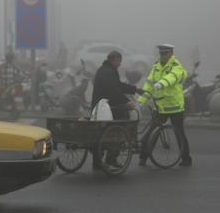person: (136, 40, 193, 168), (90, 49, 129, 172)
